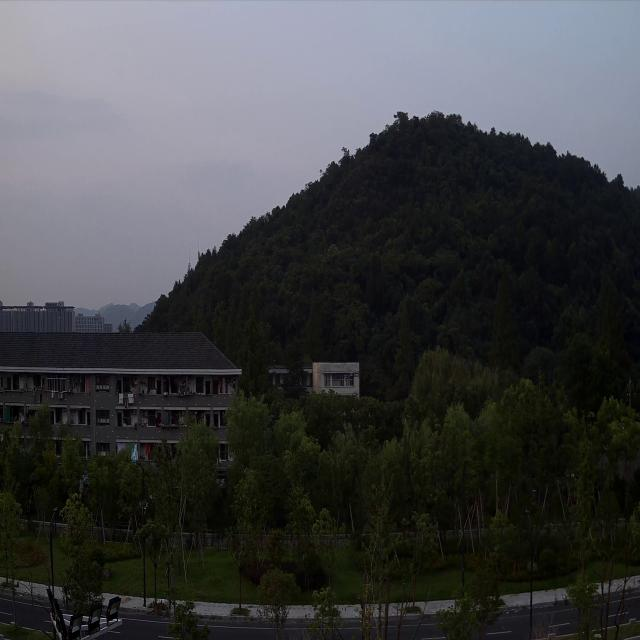UAV: (342, 370, 360, 379)
